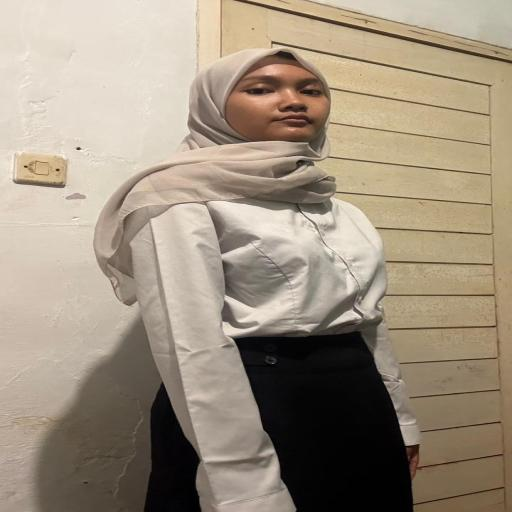kemeja_benar: (115, 198, 406, 345)
kerudung_salah: (126, 42, 359, 210)
rok_benar: (149, 335, 421, 512)
